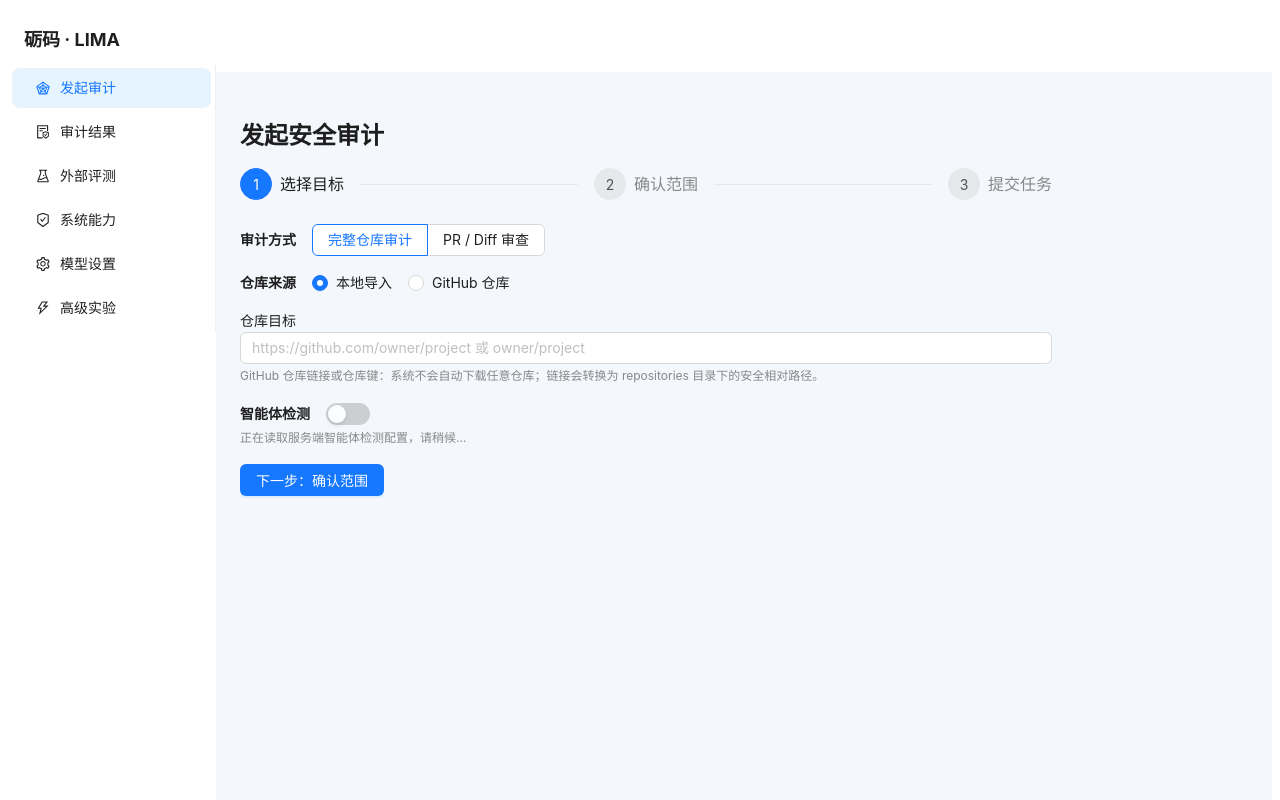
it: AuditCreatePage submission boundary › returns to editing with the draft intact when the API rejects the request
In the field labelled "仓库目标": (646, 348) [240,332,1052,364], type "team/project"
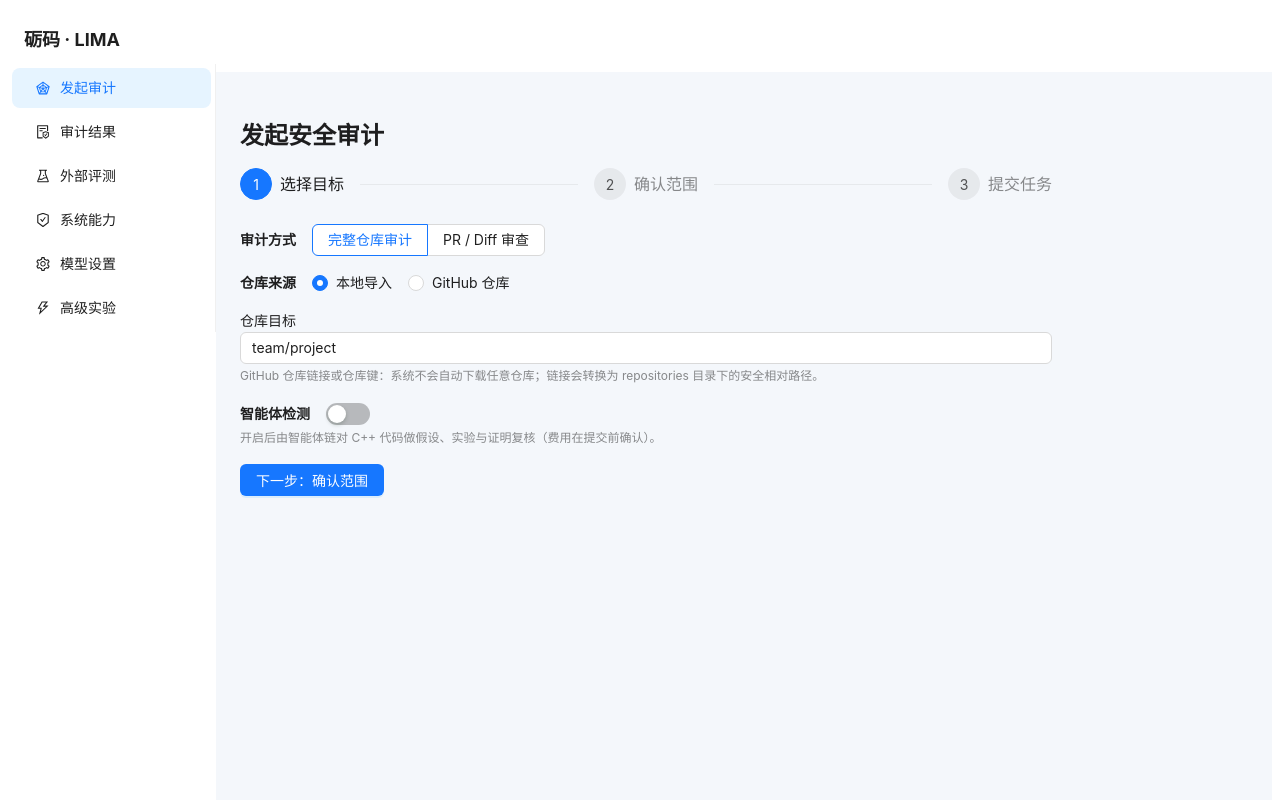
Click the button "下一步：确认范围": (312, 480) [240,464,384,496]
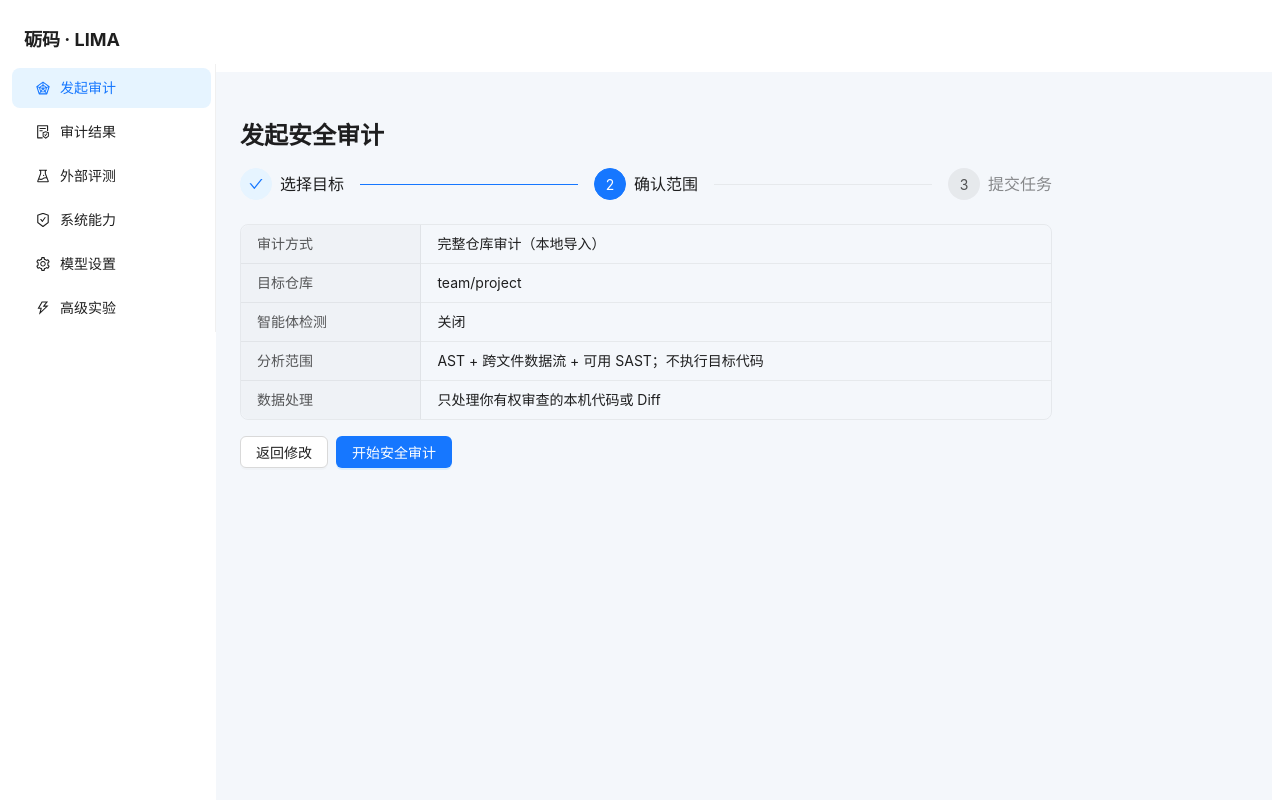
Click the button "开始安全审计": (394, 452) [336,436,452,468]
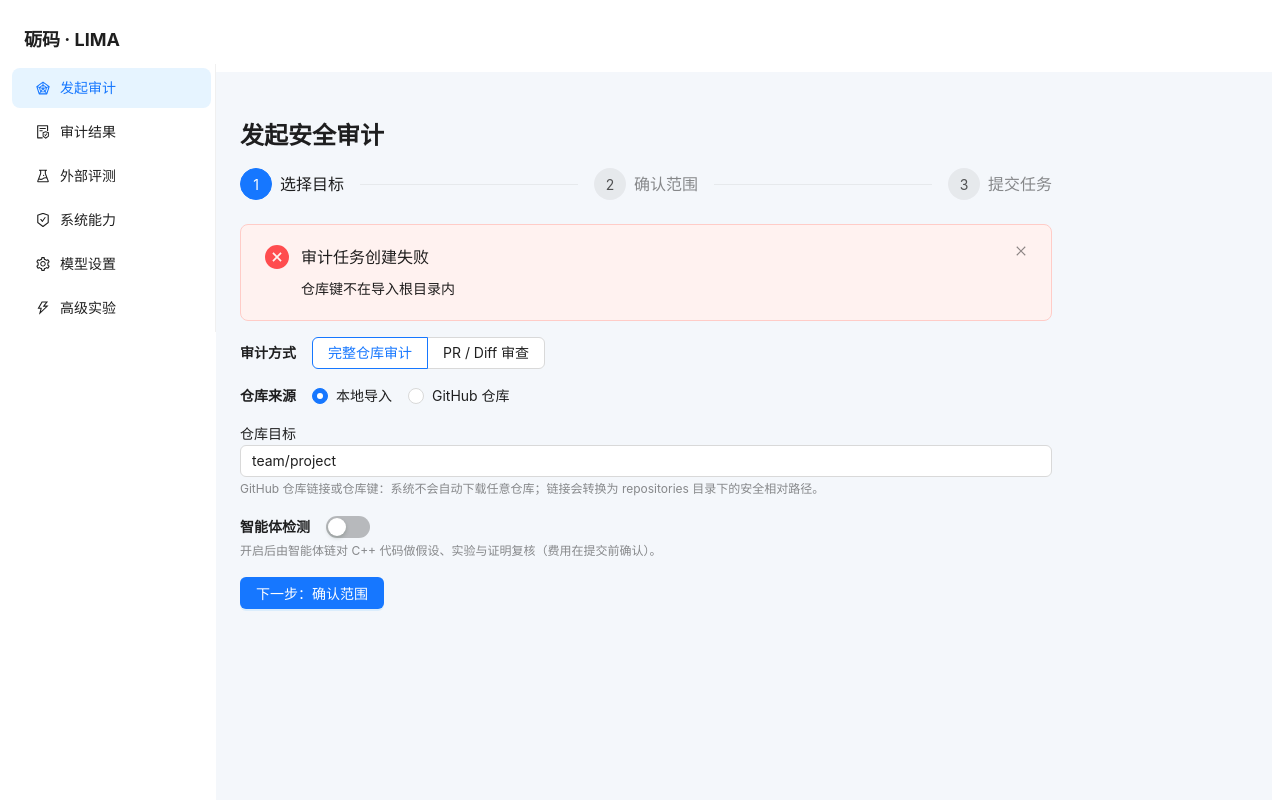
Expected: the field labelled "仓库目标" holds "team/project", [240,445,1052,477]
Expected: the text "仓库键不在导入根目录内" is shown, [301,280,455,297]
Expected: the button "下一步：确认范围" is shown, [240,577,384,609]
